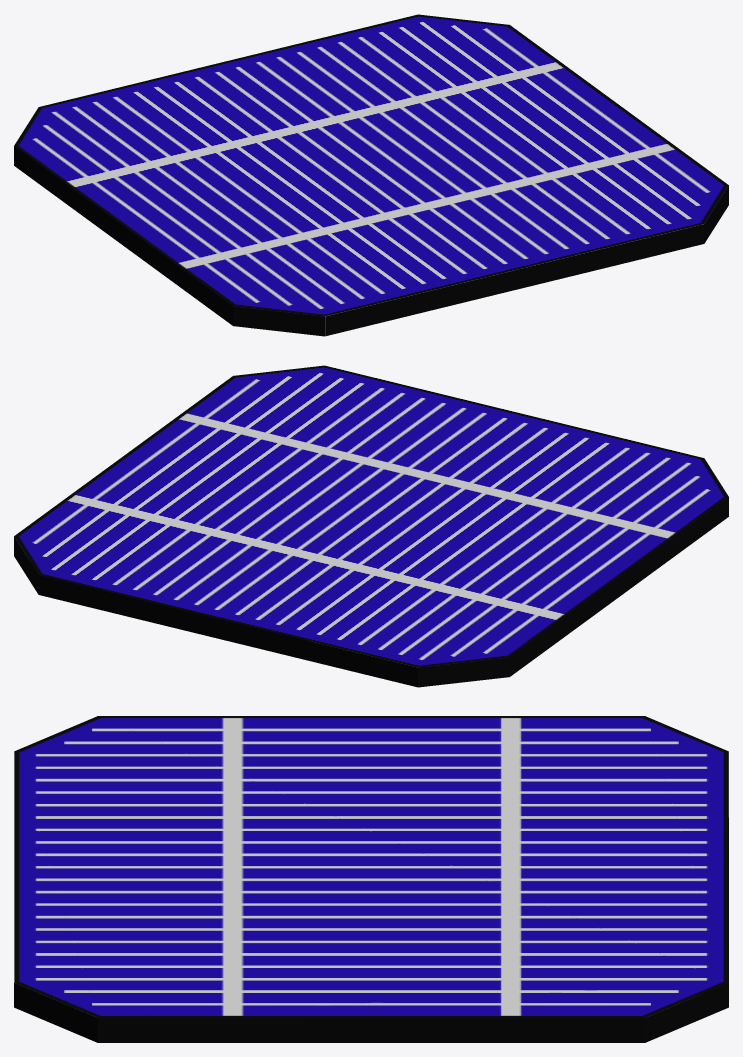
File: Celda.glb
3 renders of one model, top to bottom at view 1: azimuth 30°, elevation 25°; view 2: azimuth 150°, elevation 25°; view 3: azimuth 270°, elevation 25°, orthographic. The views are drawn at different scales.
Visible parts, largest first — view 1: CELDA; view 2: CELDA; view 3: CELDA.
Boxes of the visible parts, bbox=[...] form: CELDA: bbox=[14, 14, 728, 336]; CELDA: bbox=[14, 365, 728, 687]; CELDA: bbox=[14, 716, 728, 1042].
Size of the model in its own units: 5.2 by 0.199 by 5.2.
1 material, 1 textured.
